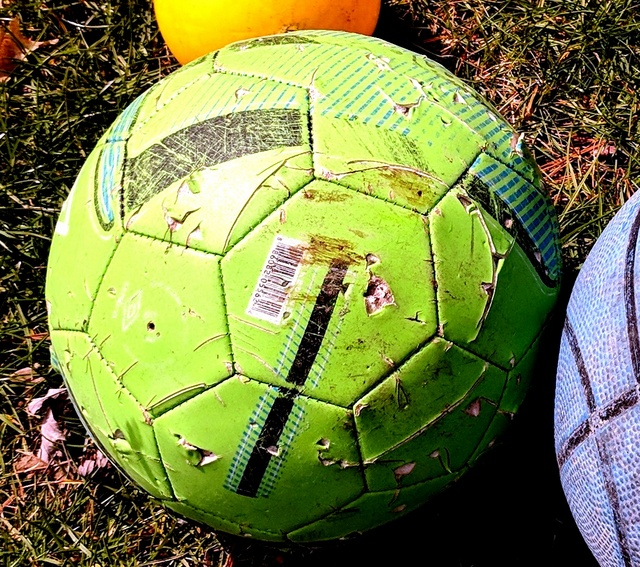ball: (45, 30, 569, 547)
